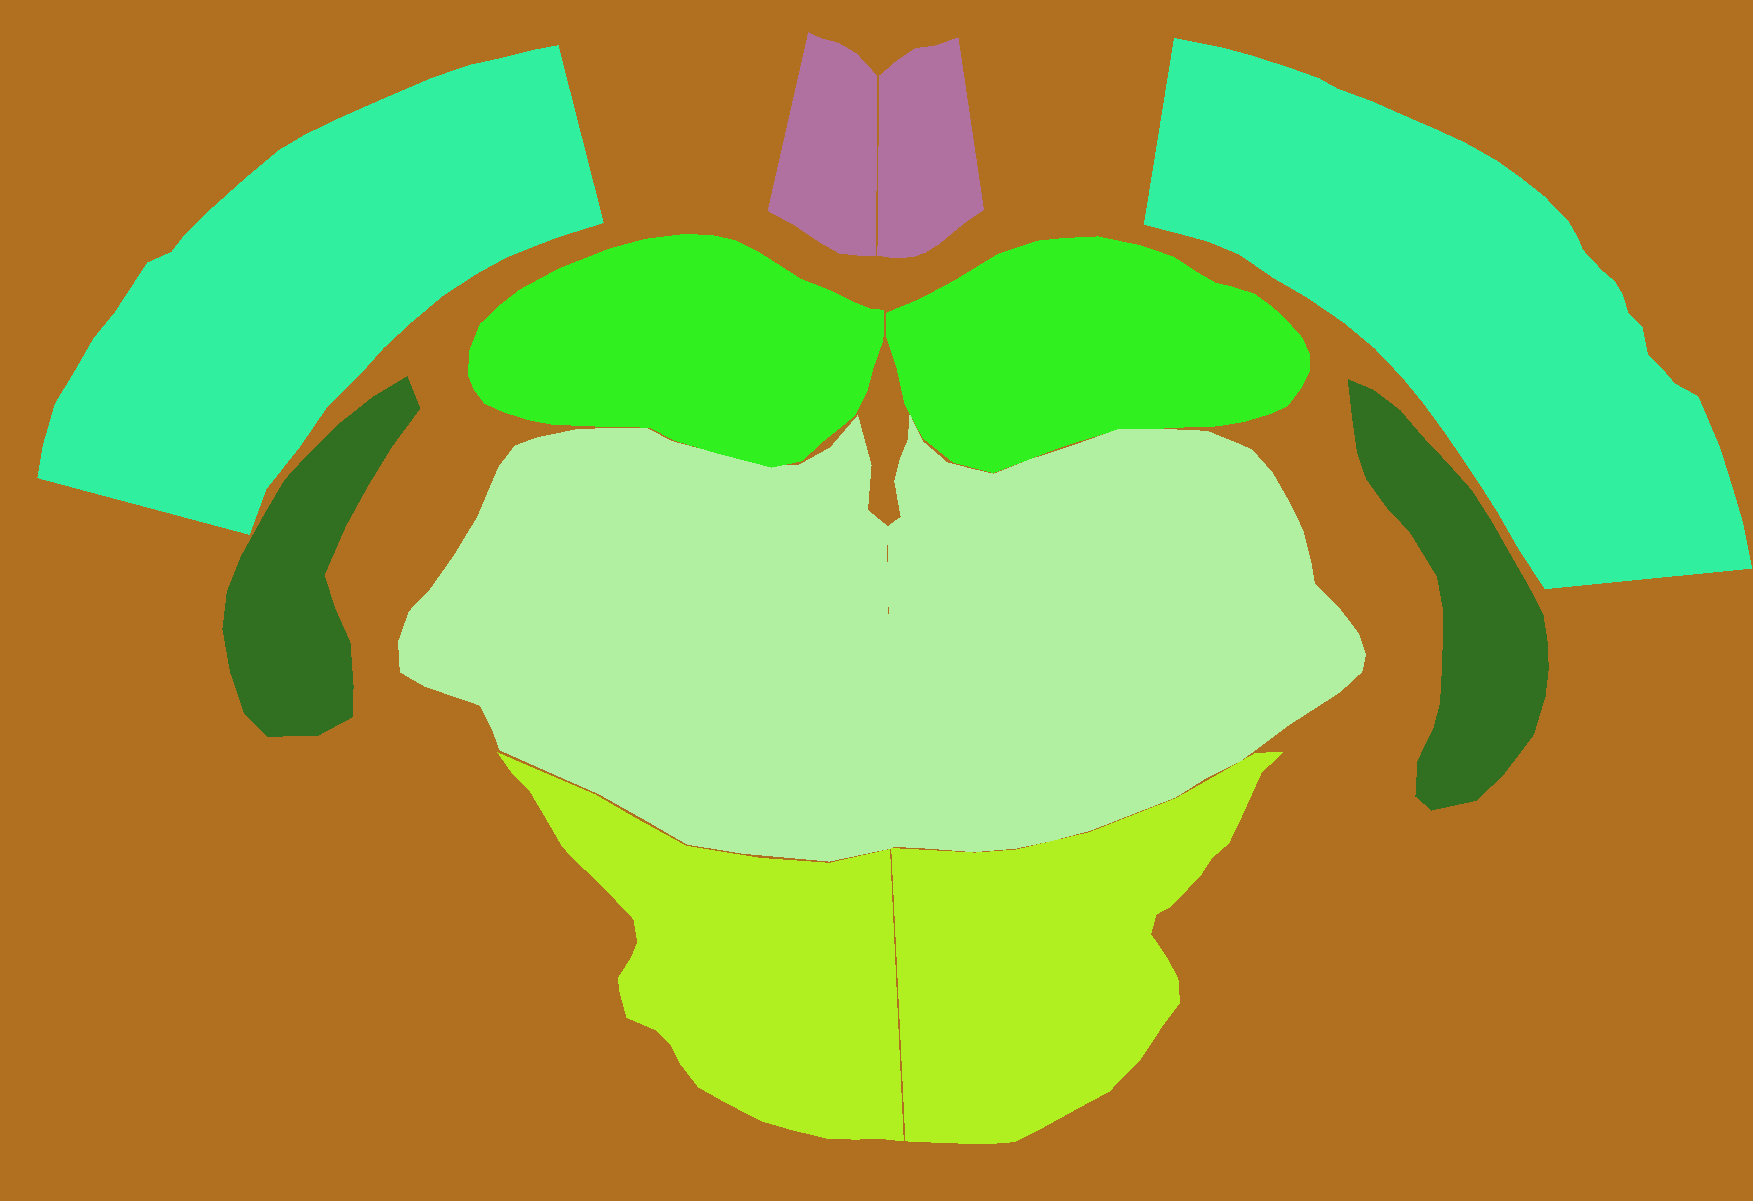Cerebral nuclei: (1348, 379, 1549, 811), (222, 375, 420, 738)
Hippocampal formation: (886, 236, 1309, 473), (468, 234, 884, 467)
Hypothalamus: (497, 752, 904, 1141), (891, 752, 1284, 1145)
Retrosplenial area: (769, 32, 878, 256), (876, 37, 983, 257)
Somatosensory area: (1144, 39, 1752, 589), (37, 45, 603, 535)
Thalamus: (398, 415, 892, 861), (887, 414, 1365, 853)
